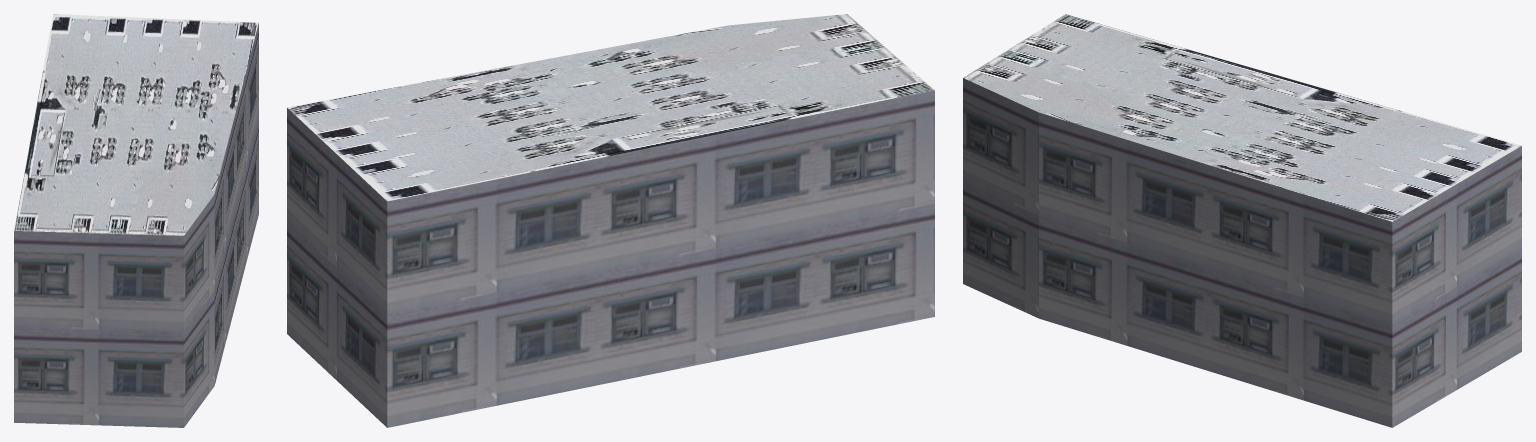
Rendered from ResTex__1103.fbx.
3 views of the same model, side by side, from view 1: azimuth 30°, elevation 25°; view 2: azimuth 150°, elevation 25°; view 3: azimuth 270°, elevation 25° (orthographic). The views are drawn at different scales.
Parts seen in each view (by area): view 1: CityEngineMaterial_1_m, CityEngineMaterial_m; view 2: CityEngineMaterial_1_m, CityEngineMaterial_m; view 3: CityEngineMaterial_1_m, CityEngineMaterial_m.
Boxes of the visible parts, box(x1,y1,x2,y2) form: CityEngineMaterial_1_m: box(14, 23, 258, 427); CityEngineMaterial_m: box(14, 14, 258, 235); CityEngineMaterial_1_m: box(287, 90, 934, 427); CityEngineMaterial_m: box(287, 14, 934, 201); CityEngineMaterial_1_m: box(963, 78, 1521, 427); CityEngineMaterial_m: box(963, 14, 1521, 221).
Bounding box in the file's own units: 12.98 × 6 × 14.74.
Materials: 2 (2 with a texture image).
